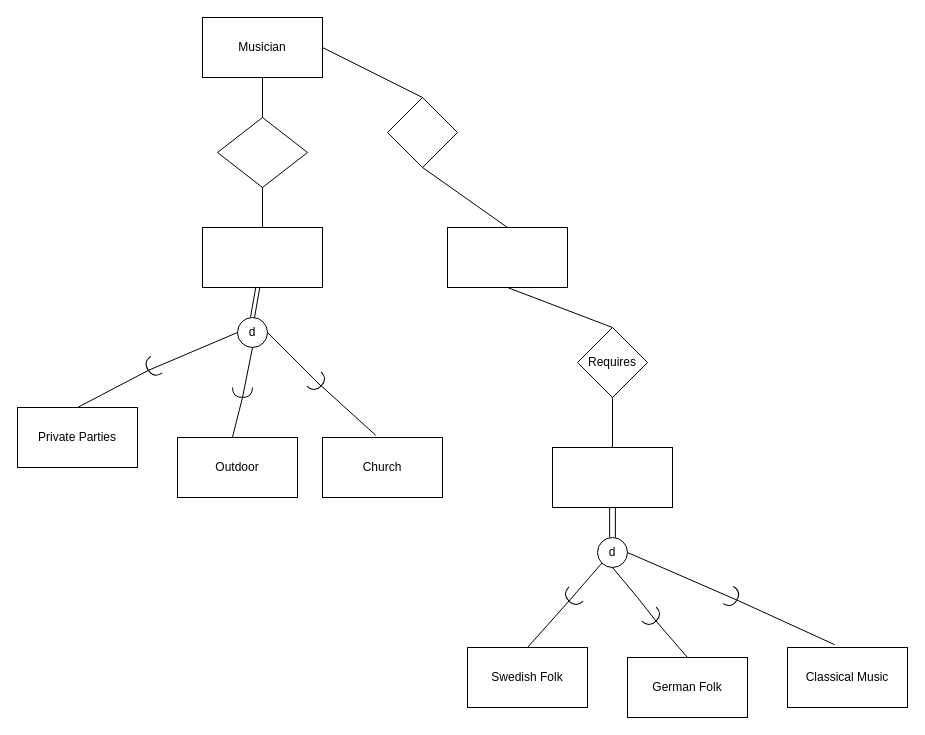
The diagram is 925 pixels wide and 735 high, and some of its shapes have lost their labels. The shapes that lost their labels are listed below. From the top down, each one's centre as x and y in pixels, then its label:
At [262,152]: "Performs at".
At [422,132]: "Plays".
At [262,257]: "Concert".
At [507,257]: "Instrument".
At [612,477]: "Music".
